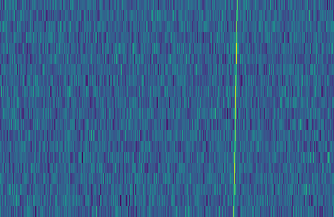signal: (230, 0, 242, 217)
